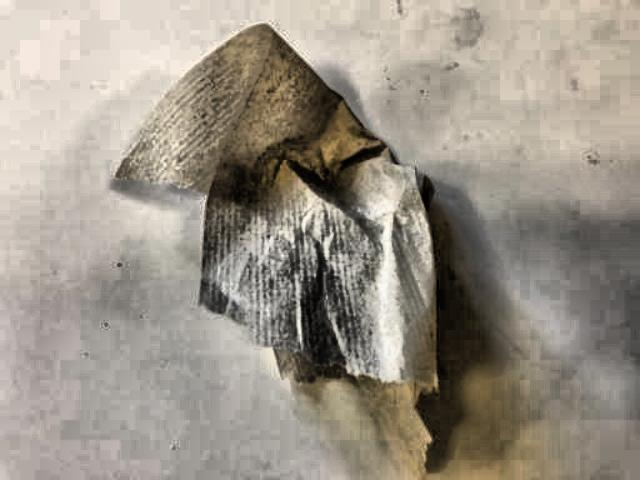Paper: (112, 18, 479, 461)
